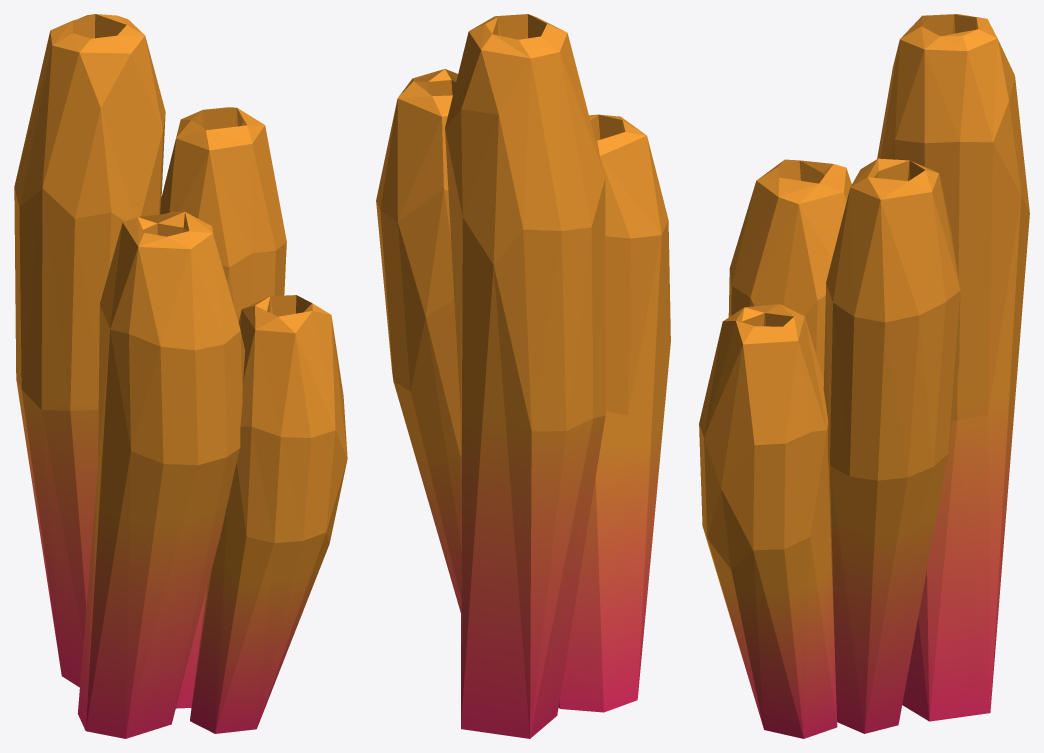
Rendered from SM_Spongia_4.fbx.
The picture shows the model from 3 angles, left to right: view 1: azimuth 30°, elevation 25°; view 2: azimuth 150°, elevation 25°; view 3: azimuth 270°, elevation 25°; orthographic projection. The views are drawn at different scales.
Parts seen in each view (by area): view 1: Spongia_4; view 2: Spongia_4; view 3: Spongia_4.
Part boxes in pixels (left/top/right/bottom): Spongia_4: left=14, top=14, right=347, bottom=738; Spongia_4: left=376, top=14, right=670, bottom=738; Spongia_4: left=699, top=14, right=1029, bottom=738.
Size of the model in its own units: 49.1 by 136 by 60.55.
